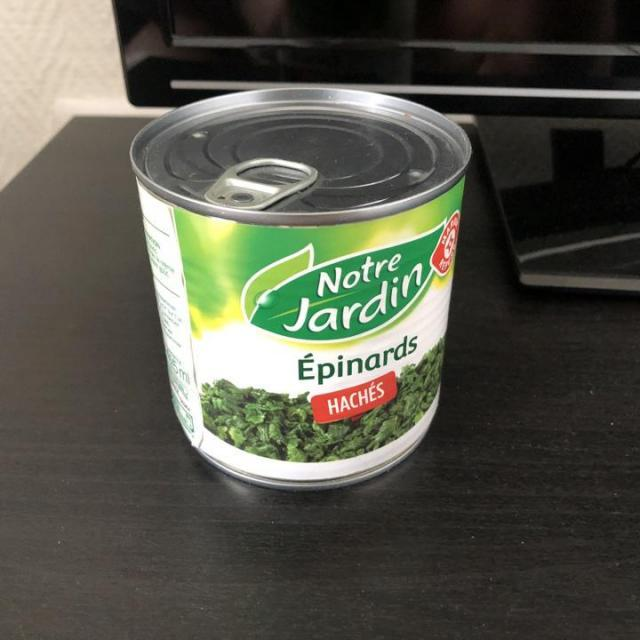recyclable: (126, 76, 470, 492)
